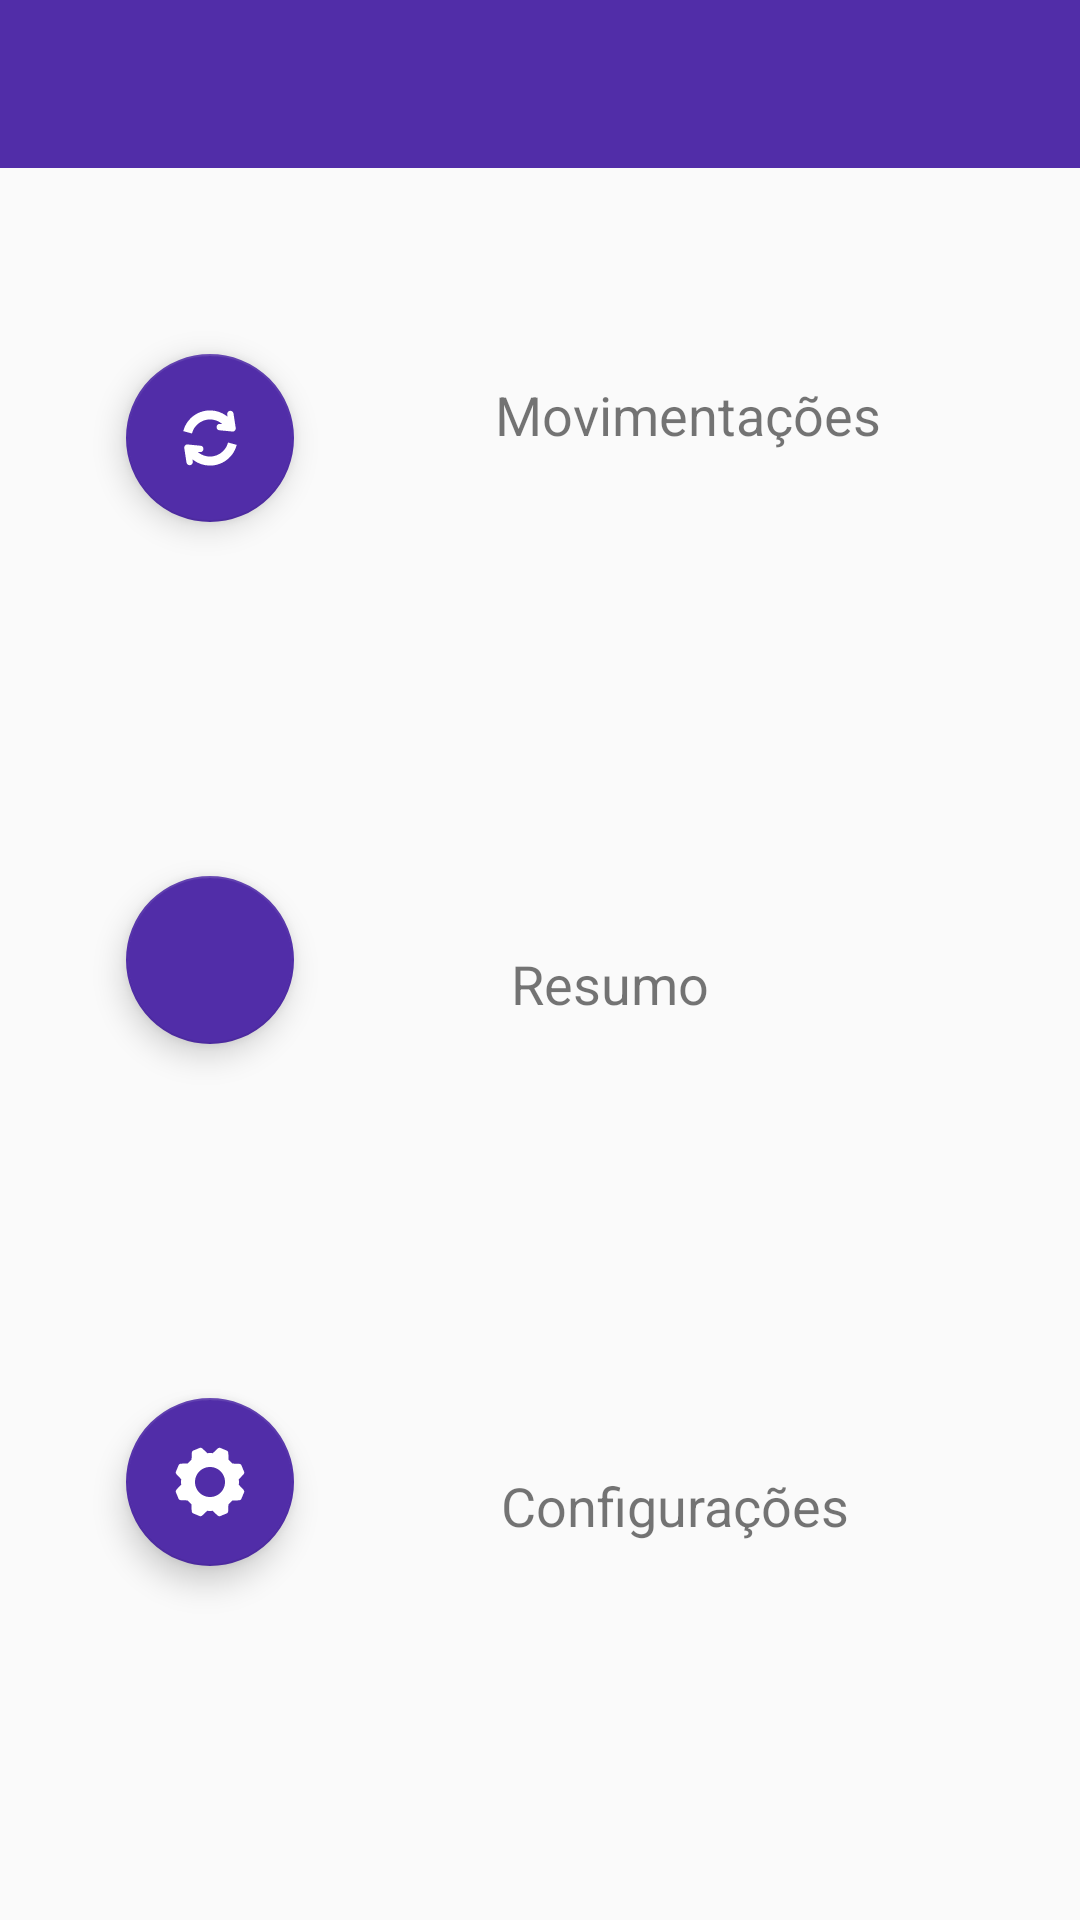

Where to tap for icons on this 1080 x 1920 app screen, as (x=x, y=y):
if settings: (x=210, y=1482)
if update: (x=210, y=438)
